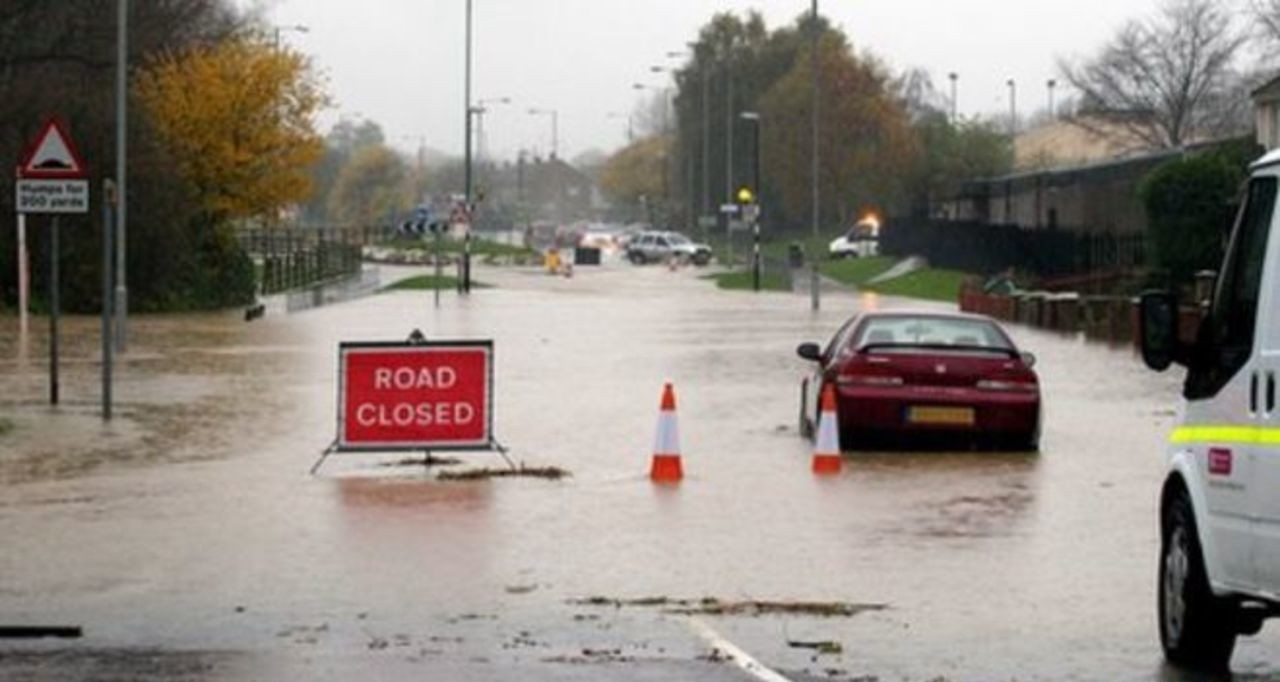car: (1138, 150, 1275, 663), (797, 304, 1042, 453), (624, 231, 710, 267)
